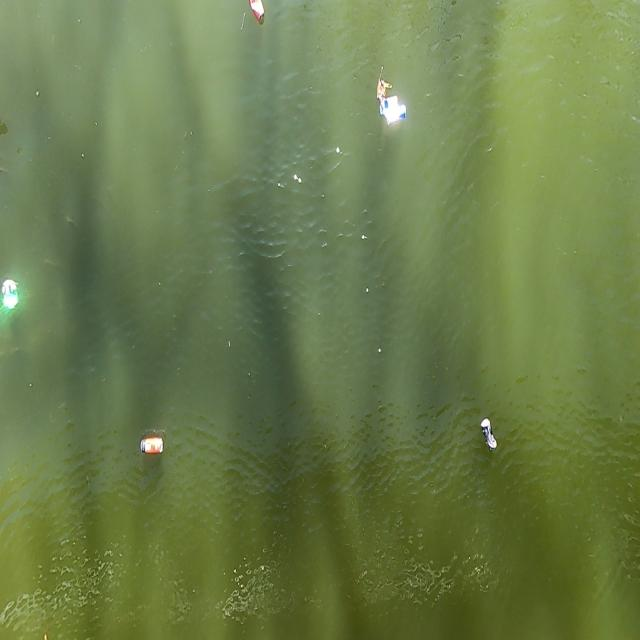Non plastique: (379, 108, 413, 143), (478, 410, 500, 460), (135, 432, 167, 464), (246, 0, 270, 27), (374, 94, 401, 112)
